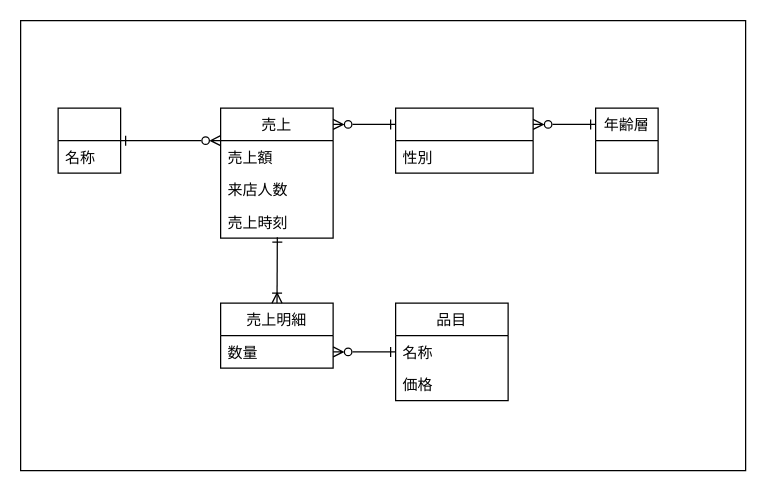
Some shapes in this 766 by 491 pixel diagram are drawn without their labels. The shapes that lost their labels are listed below. From the top down, each one's box as (x1, y1, x2, y2) in pixels, then its label:
(57, 107, 121, 173): 店舗
(394, 107, 533, 173): 性別ごとの年齢層
